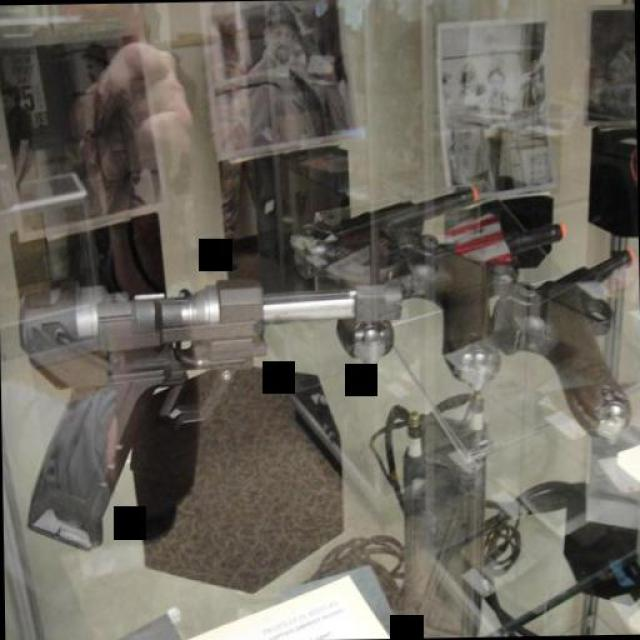gun: (6, 253, 406, 566)
